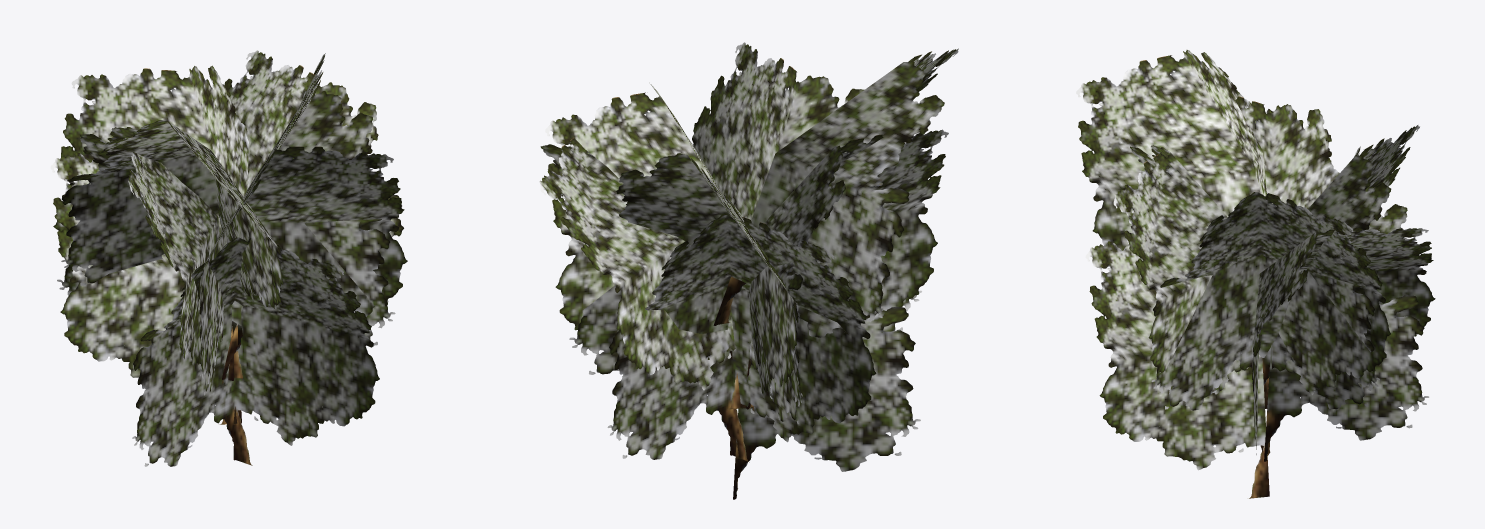
Rendered from mbushsno_0.dae.
3 views of the same model, side by side, from view 1: azimuth 30°, elevation 25°; view 2: azimuth 150°, elevation 25°; view 3: azimuth 270°, elevation 25° (orthographic). The views are drawn at different scales.
Parts seen in each view (by area): view 1: mbushsno_0; view 2: mbushsno_0; view 3: mbushsno_0.
Part boxes in pixels (bbox=[...]): mbushsno_0: bbox=[50, 50, 407, 466]; mbushsno_0: bbox=[539, 42, 958, 499]; mbushsno_0: bbox=[1076, 50, 1435, 498].
Size of the model in its own units: 4.33 by 3.76 by 3.79.
1 material, 1 textured.
